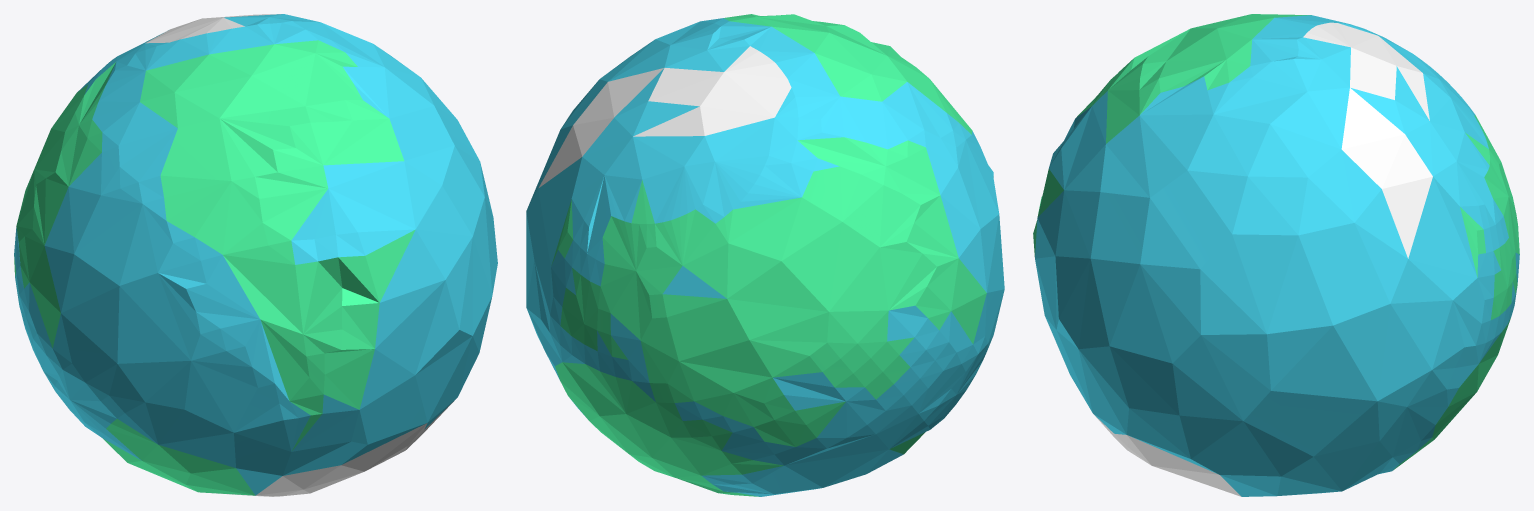
Rendered from earth.glb.
3 renders of one model, left to right at view 1: azimuth 30°, elevation 25°; view 2: azimuth 150°, elevation 25°; view 3: azimuth 270°, elevation 25°, orthographic.
Parts seen in each view (by area): view 1: 000_Buffer_Layer, 001_Buffer_Layer, 002_Buffer_Layer; view 2: 001_Buffer_Layer, 000_Buffer_Layer, 002_Buffer_Layer; view 3: 000_Buffer_Layer, 001_Buffer_Layer, 002_Buffer_Layer.
Boxes of the visible parts, box(x1,y1,x2,y2) form: 000_Buffer_Layer: box(14, 14, 497, 495); 001_Buffer_Layer: box(14, 40, 415, 495); 002_Buffer_Layer: box(145, 14, 453, 496); 001_Buffer_Layer: box(551, 14, 986, 496); 000_Buffer_Layer: box(526, 17, 1004, 496); 002_Buffer_Layer: box(539, 46, 791, 187); 000_Buffer_Layer: box(1035, 15, 1519, 496); 001_Buffer_Layer: box(1033, 14, 1519, 470); 002_Buffer_Layer: box(1093, 22, 1432, 496).
Size of the model in its own units: 227868 by 230521 by 229662.
